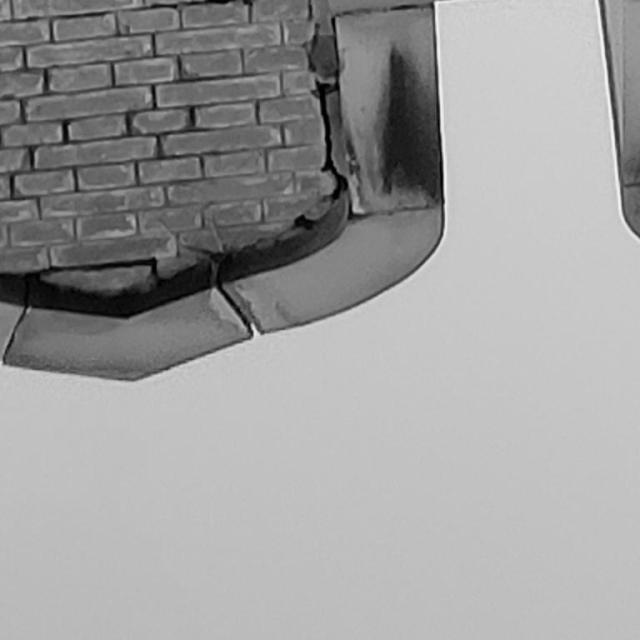crack: (182, 1, 348, 262), (29, 256, 164, 286)
